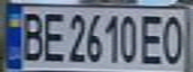0: (118, 11, 142, 65)
1: (103, 11, 121, 63)
2: (63, 9, 87, 64)
6: (84, 10, 106, 64)
B: (15, 8, 45, 62)
E: (39, 9, 69, 63), (139, 11, 169, 65)
O: (157, 11, 190, 66)
